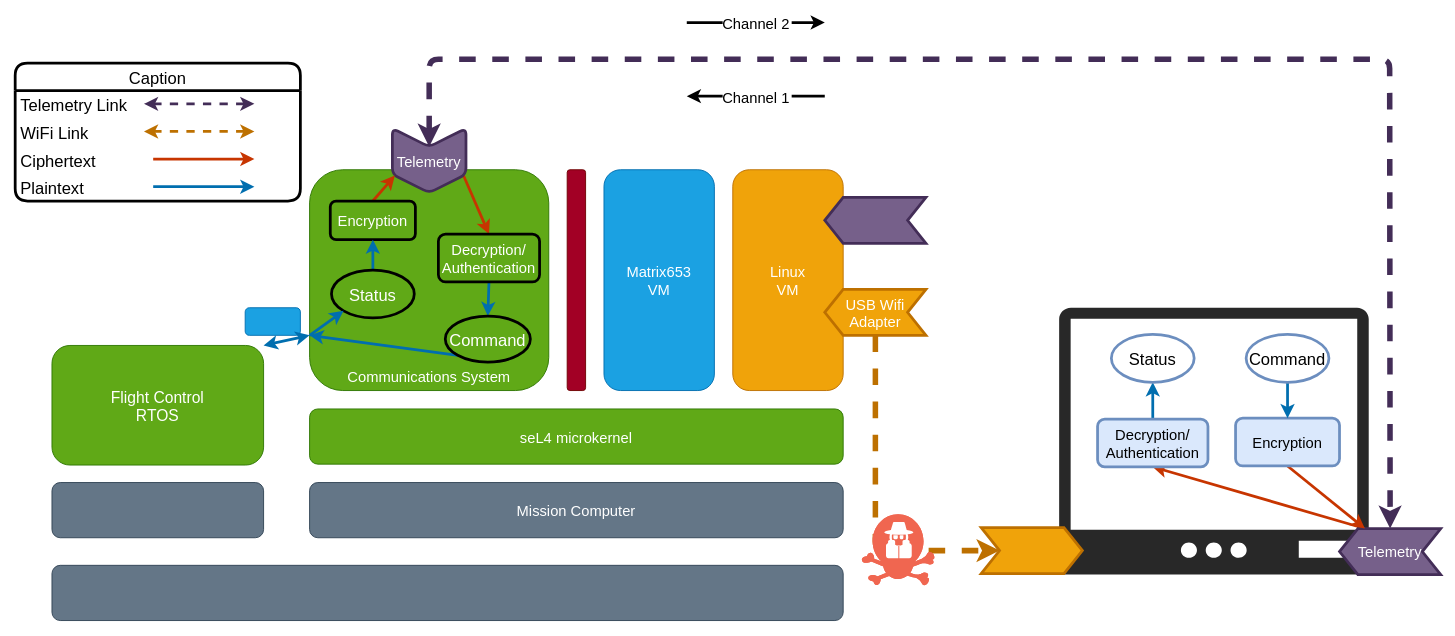
Image size: 1455x636. Some labels were removed from this diagram. The shapes that lost their labels are listed below. From the top down, each one's centre as x and y in pixels, then its label:
At [875,220]: "Camera".
At [272,321]: "Serial".
At [157,510]: "Flight Control Computer".
At [1031,550]: "Wifi Adapter".
At [447,592]: "Unmanned Quad Copter".
